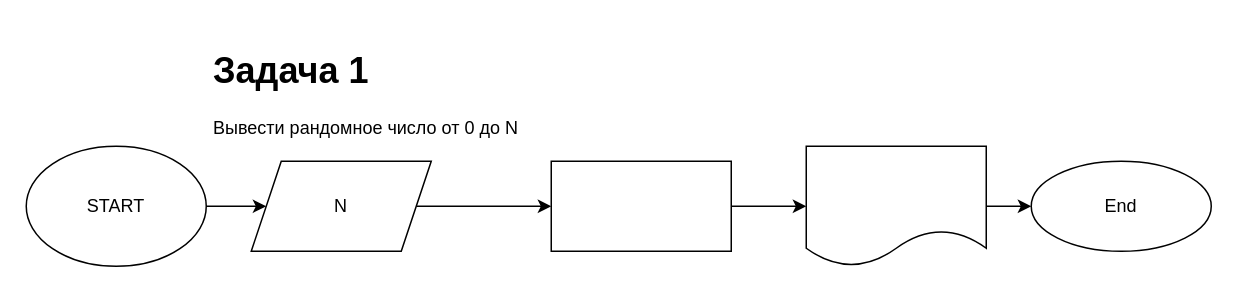
This 1238x293 diagram has some shape labels left out. Here are the shapes that lost their labels. From the top down, the centre of each, then its label:
the point at 640,205: res = random (N-1)+1
the point at 895,205: res
